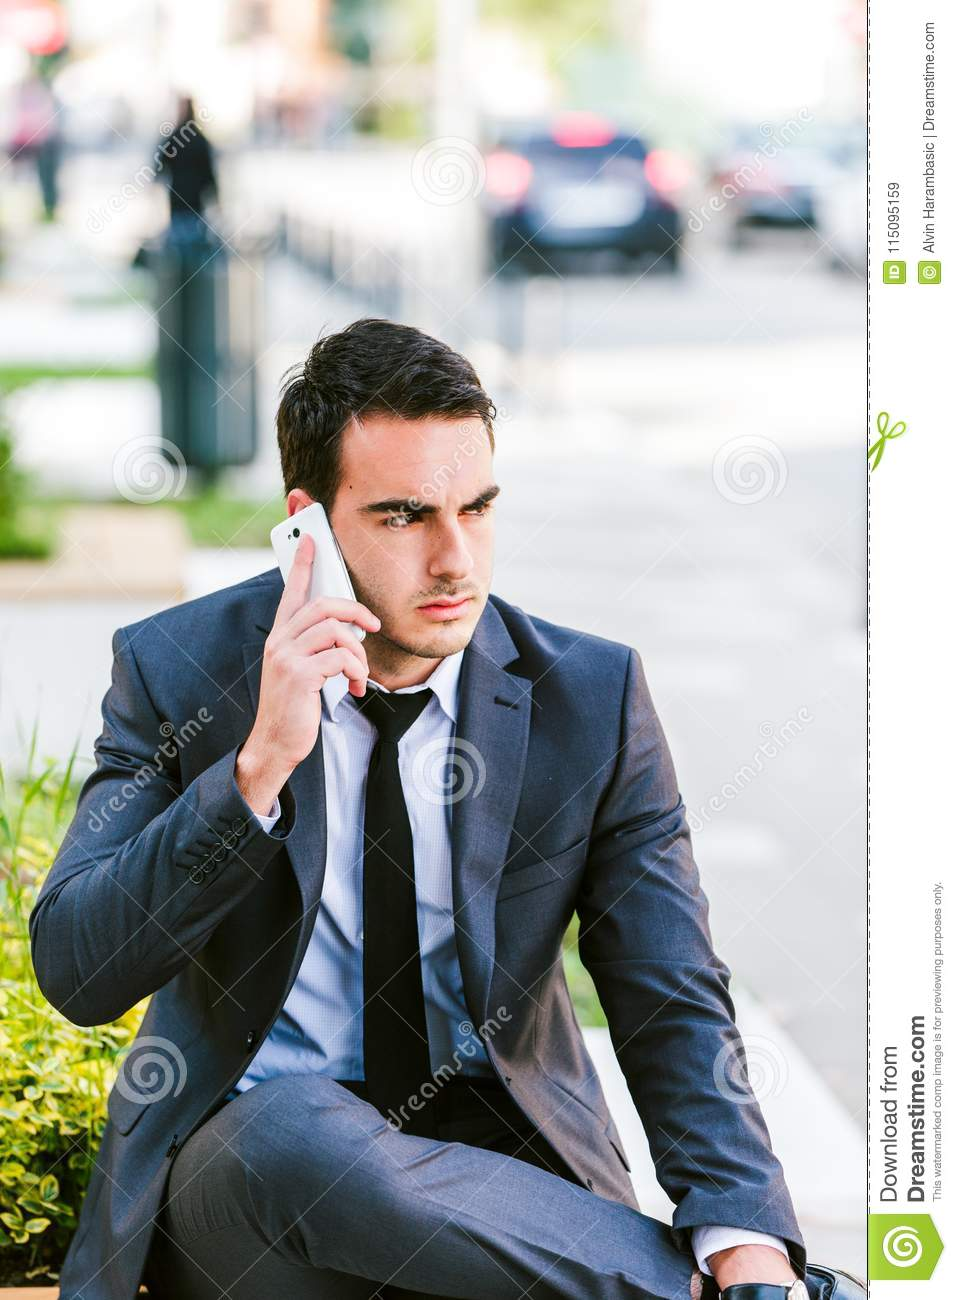phone: (271, 502, 375, 678)
talk: (253, 483, 500, 757)
